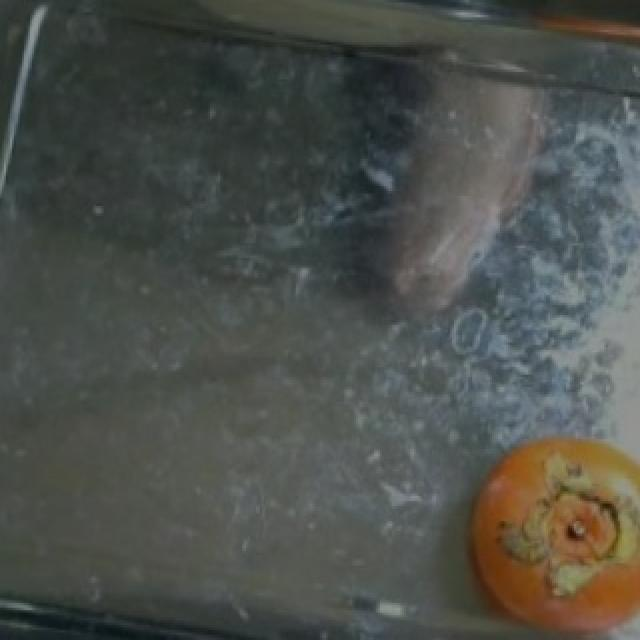Fruit: (444, 412, 636, 640)
